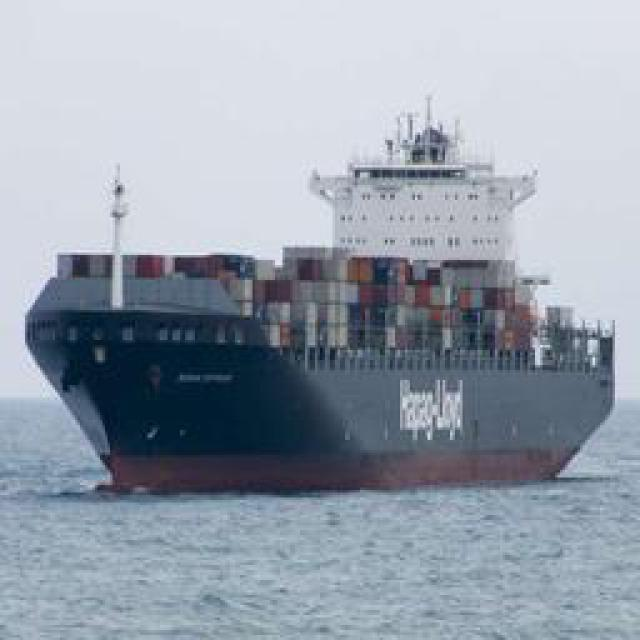Ship: (21, 92, 611, 502)
